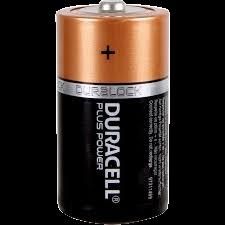Battery: (55, 0, 170, 225)
